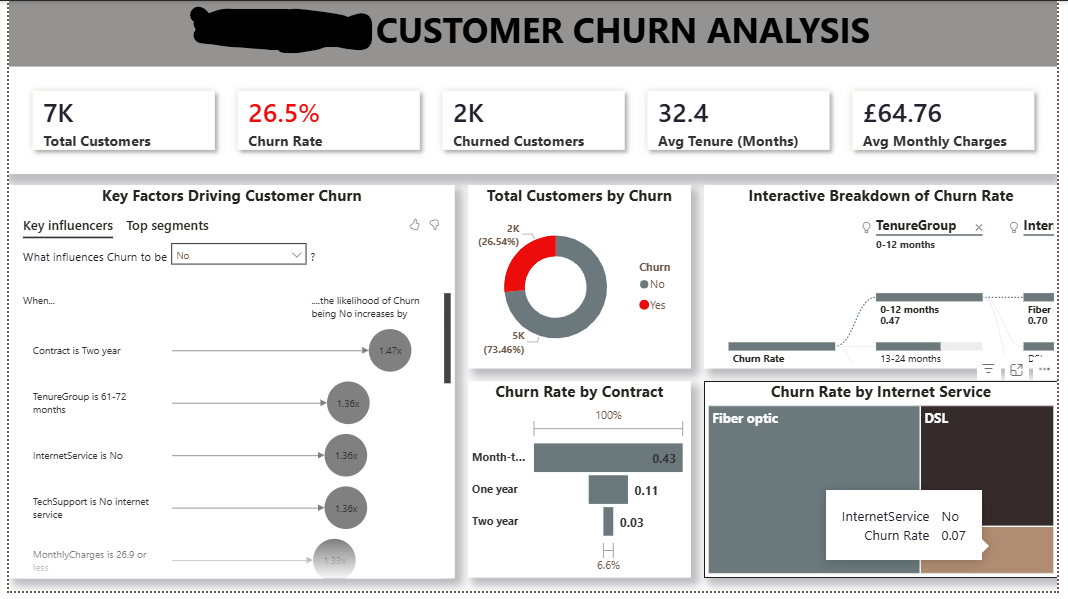

This screenshot's page, from the dashboard's own definition file:
{"tool":"powerbi","page":{"name":"Dashboard","canvas":[1280,720],"ordinal":0},"visuals":[{"type":"cardVisual","fields":{"Data":["Customer_Churn_Dataset.Total Customers","Customer_Churn_Dataset.Churn Rate","Customer_Churn_Dataset.Churned Customers","Customer_Churn_Dataset.Avg Tenure (Months)","Customer_Churn_Dataset.Avg Monthly Charges"]},"box":[0,80,1280,130],"z":0},{"type":"donutChart","fields":{"Category":["Customer_Churn_Dataset.Churn"],"Y":["Customer_Churn_Dataset.Total Customers"]},"box":[560,224,272,224],"z":1000},{"type":"keyDriversVisual","title":"Key Factors Driving Customer Churn","fields":{"Target":["Customer_Churn_Dataset.Churn"],"ExplainBy":["Customer_Churn_Dataset.Contract","Customer_Churn_Dataset.InternetService","Customer_Churn_Dataset.TechSupport","Customer_Churn_Dataset.PaymentMethod","Customer_Churn_Dataset.TenureGroup","Customer_Churn_Dataset.MonthlyCharges","Customer_Churn_Dataset.SeniorCitizen"]},"box":[0,224,544,480],"z":2000},{"type":"decompositionTreeVisual","title":"Interactive Breakdown of Churn Rate","fields":{"Analyze":["Customer_Churn_Dataset.Churn Rate"],"ExplainBy":["Customer_Churn_Dataset.TenureGroup","Customer_Churn_Dataset.InternetService","Customer_Churn_Dataset.PaymentMethod","Customer_Churn_Dataset.Contract","Customer_Churn_Dataset.TechSupport"]},"box":[848,224,432,224],"z":3000},{"type":"textbox","box":[0,0,1280,80],"z":4000},{"type":"funnel","fields":{"Y":["Customer_Churn_Dataset.Churn Rate"],"Category":["Customer_Churn_Dataset.Contract"]},"box":[560,464,272,240],"z":5000},{"type":"treemap","title":"Churn Rate by Internet Service","fields":{"Values":["Customer_Churn_Dataset.Churn Rate"],"Group":["Customer_Churn_Dataset.InternetService"]},"box":[848,464,432,240],"z":6000}]}

Visuals, with their boxes in screenshot pixels (x1, y1, x2, y2), scaled from the page's 1280x720 canvas onto the 1068x599 screenshot:
cardVisual - Customer_Churn_Dataset.Total Customers x Customer_Churn_Dataset.Churn Rate: x1=0 y1=67 x2=1067 y2=175
donutChart - Customer_Churn_Dataset.Churn x Customer_Churn_Dataset.Total Customers: x1=467 y1=186 x2=694 y2=373
"Key Factors Driving Customer Churn" keyDriversVisual: x1=0 y1=186 x2=454 y2=586
"Interactive Breakdown of Churn Rate" decompositionTreeVisual: x1=708 y1=186 x2=1067 y2=373
textbox: x1=0 y1=0 x2=1067 y2=67
funnel - Customer_Churn_Dataset.Churn Rate x Customer_Churn_Dataset.Contract: x1=467 y1=386 x2=694 y2=586
"Churn Rate by Internet Service" treemap: x1=708 y1=386 x2=1067 y2=586
